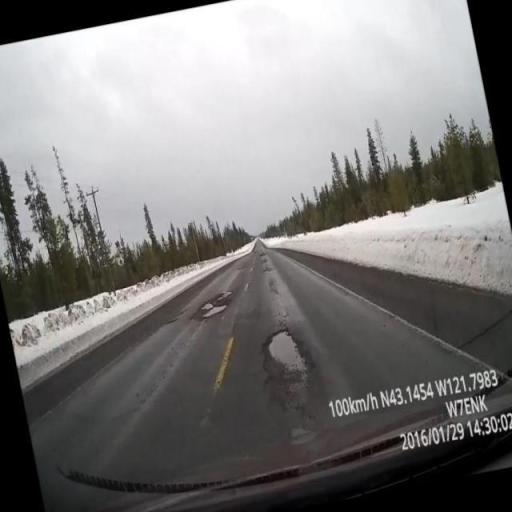pothole: (147, 171, 439, 505), (112, 155, 337, 464), (112, 147, 332, 444), (106, 152, 318, 455)
